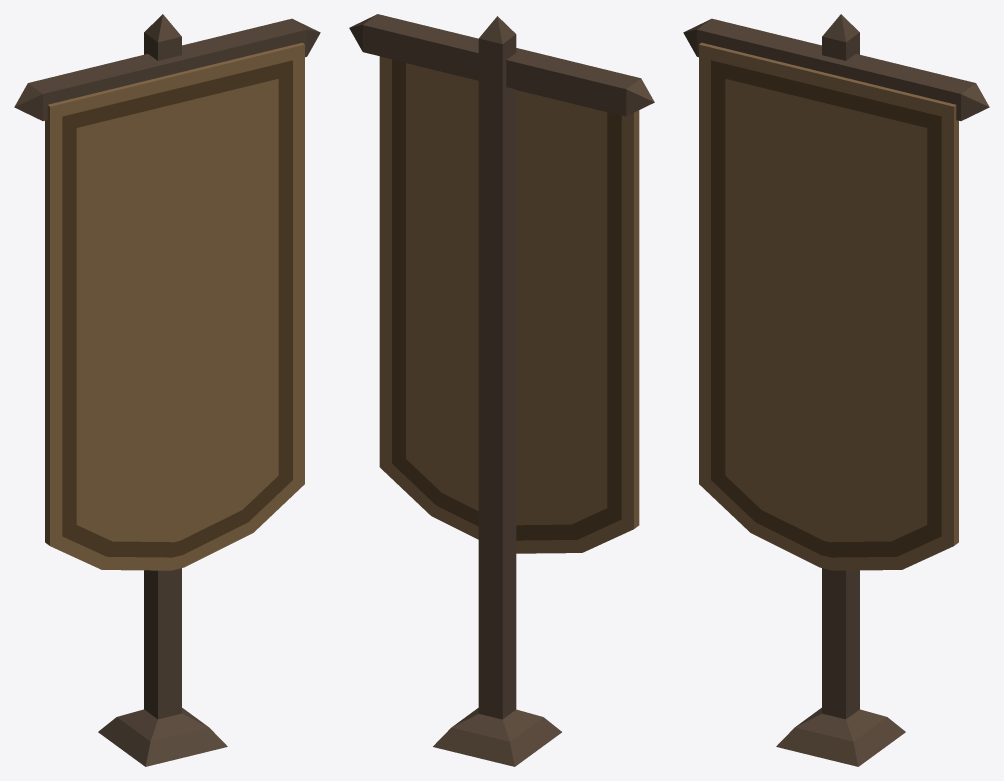
File: Banner_4_Brown.fbx
3 renders of one model, left to right at view 1: azimuth 30°, elevation 25°; view 2: azimuth 150°, elevation 25°; view 3: azimuth 330°, elevation 25°, orthographic.
Parts seen in each view (by area): view 1: Banner_4_Brown_Part_2, Banner_4_Brown_Part_3, Banner_4_Brown_Part_1; view 2: Banner_4_Brown_Part_2, Banner_4_Brown_Part_1, Banner_4_Brown_Part_3; view 3: Banner_4_Brown_Part_2, Banner_4_Brown_Part_3, Banner_4_Brown_Part_1.
Part boxes in pixels (box(x1,y1,x2,y2)): Banner_4_Brown_Part_2: box(45, 42, 304, 570); Banner_4_Brown_Part_3: box(62, 60, 292, 557); Banner_4_Brown_Part_1: box(14, 14, 320, 766); Banner_4_Brown_Part_2: box(379, 56, 639, 553); Banner_4_Brown_Part_1: box(349, 14, 654, 766); Banner_4_Brown_Part_3: box(392, 59, 621, 540); Banner_4_Brown_Part_2: box(699, 42, 958, 570); Banner_4_Brown_Part_3: box(711, 60, 941, 557); Banner_4_Brown_Part_1: box(683, 14, 989, 766).
Size of the model in its own units: 120 by 272 by 32.4.
